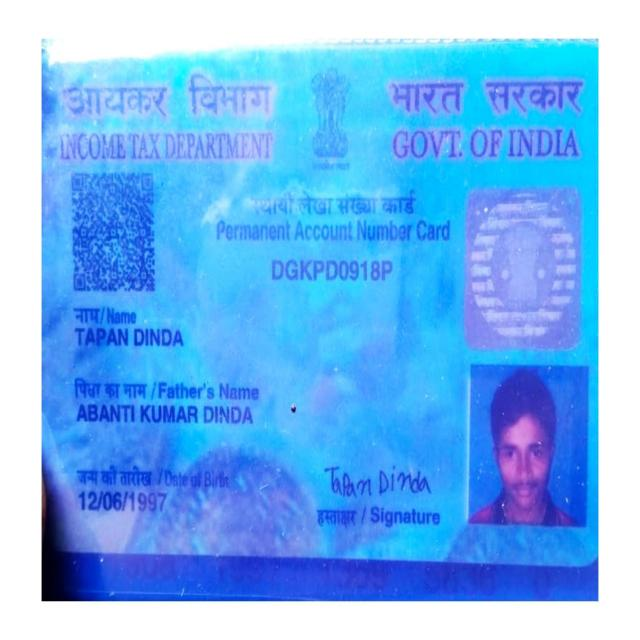pan_card: (42, 41, 599, 564)
